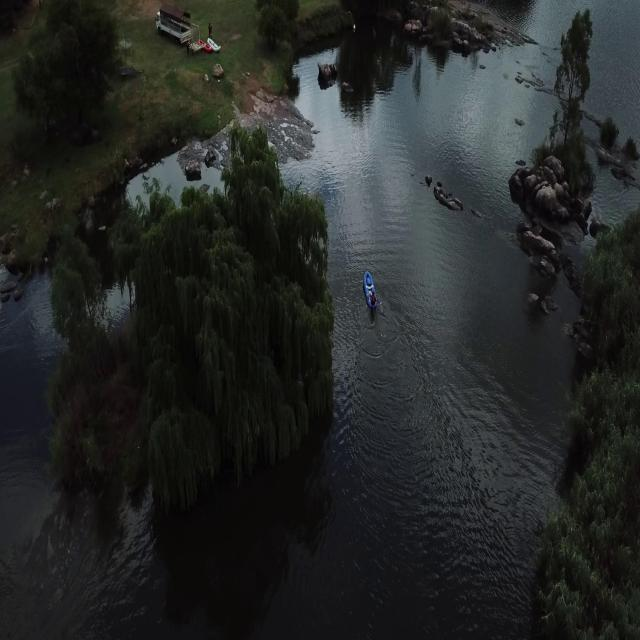kayak: (361, 268, 379, 313)
